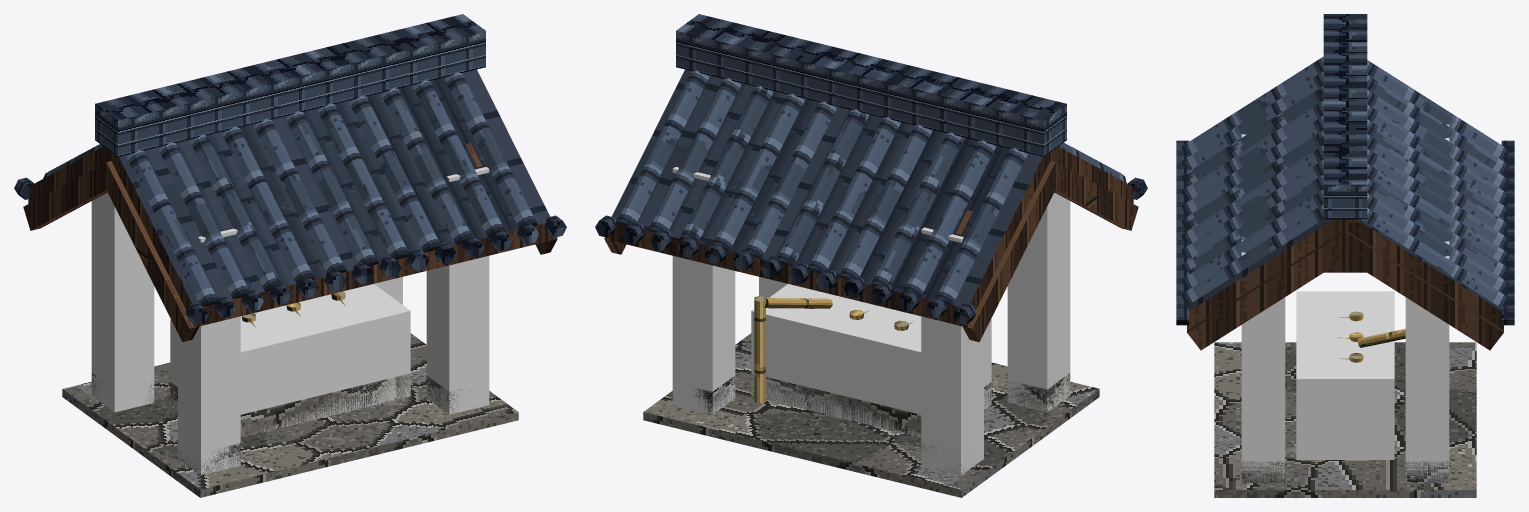
The model's file is JP_Temple_Temizuya_B.glb.
3 views of the same model, side by side, from view 1: azimuth 30°, elevation 25°; view 2: azimuth 150°, elevation 25°; view 3: azimuth 270°, elevation 25° (orthographic). The views are drawn at different scales.
Visible parts, largest first — view 1: JP_Temple_Temizuya_B, COL_JP_Temple_Temizuya_B, COL_JP_Temple_Temizuya_B_017, COL_JP_Temple_Temizuya_B_22, COL_JP_Temple_Temizuya_B_02; view 2: JP_Temple_Temizuya_B, COL_JP_Temple_Temizuya_B, COL_JP_Temple_Temizuya_B_02, COL_JP_Temple_Temizuya_B_217, COL_JP_Temple_Temizuya_B_017; view 3: JP_Temple_Temizuya_B, COL_JP_Temple_Temizuya_B, COL_JP_Temple_Temizuya_B_217, COL_JP_Temple_Temizuya_B_22.
Part boxes in pixels (x1,y1,x2,y2): JP_Temple_Temizuya_B: (14,14,566,497); COL_JP_Temple_Temizuya_B: (170,284,410,436); COL_JP_Temple_Temizuya_B_017: (91,192,154,412); COL_JP_Temple_Temizuya_B_22: (426,167,489,414); COL_JP_Temple_Temizuya_B_02: (178,228,240,475); JP_Temple_Temizuya_B: (595,14,1147,497); COL_JP_Temple_Temizuya_B: (751,284,991,437); COL_JP_Temple_Temizuya_B_02: (1007,192,1070,412); COL_JP_Temple_Temizuya_B_217: (672,167,735,414); COL_JP_Temple_Temizuya_B_017: (921,227,983,475); JP_Temple_Temizuya_B: (1176,14,1514,497); COL_JP_Temple_Temizuya_B: (1296,291,1394,459); COL_JP_Temple_Temizuya_B_217: (1405,241,1449,482); COL_JP_Temple_Temizuya_B_22: (1241,240,1285,482).
Bounding box in the file's own units: 3.77 × 3.28 × 3.1.
8 materials, 8 textured.
